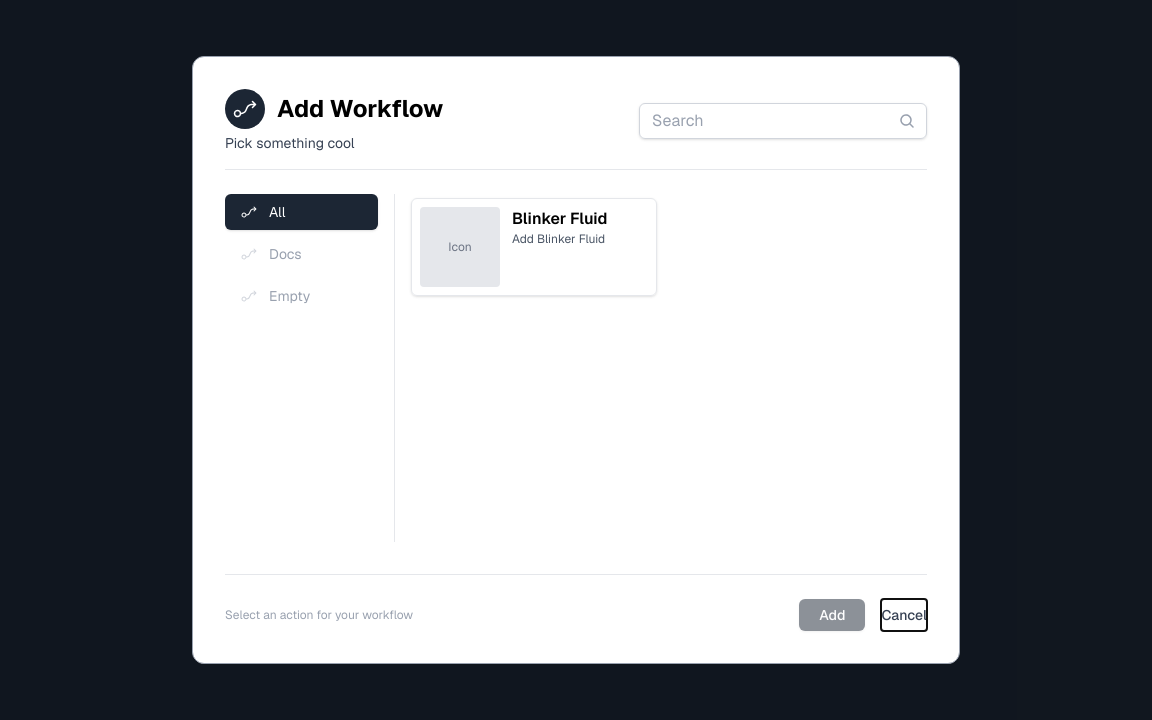
it: CatalogDialog › search filters items by name / description / tag
The image size is (1152, 720).
Type "fluid" into the field with placeholder "Search" at (783, 121), box 639,103 -> 927,139
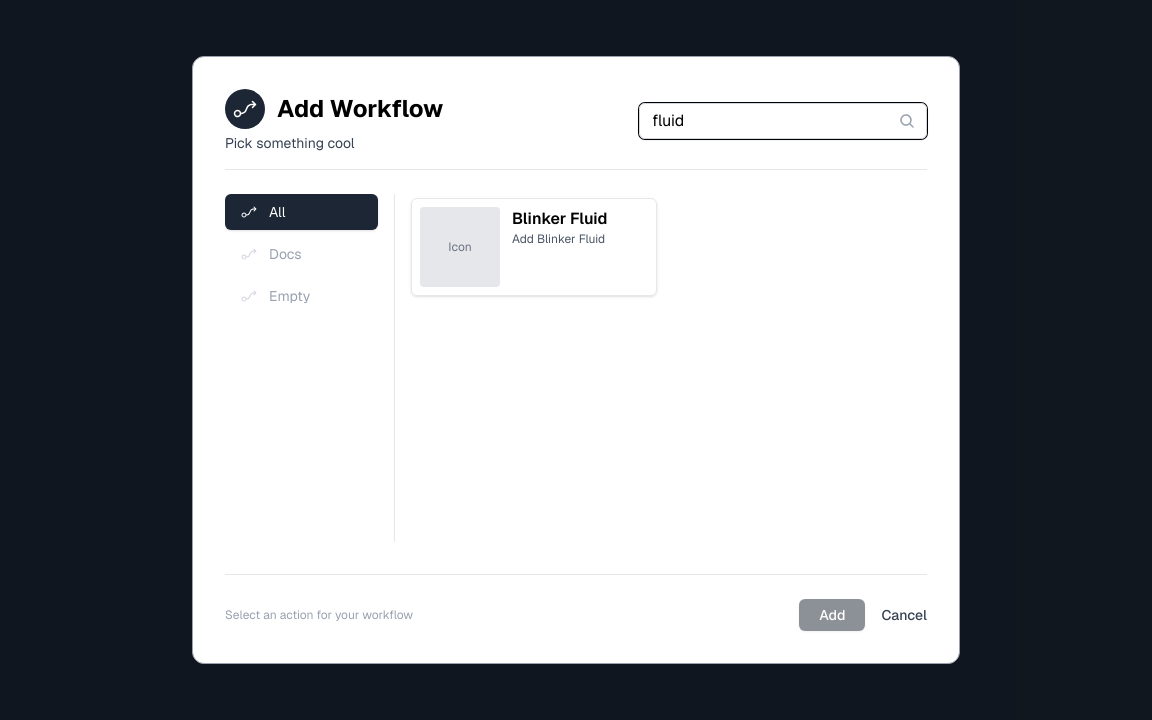
Expected: the button "Icon Blinker Fluid Add Blinker Fluid" is shown, 411,198 -> 657,296
Replace the text in the field with placeholder "Search" with "nonsense" at (783, 121), box 639,103 -> 927,139
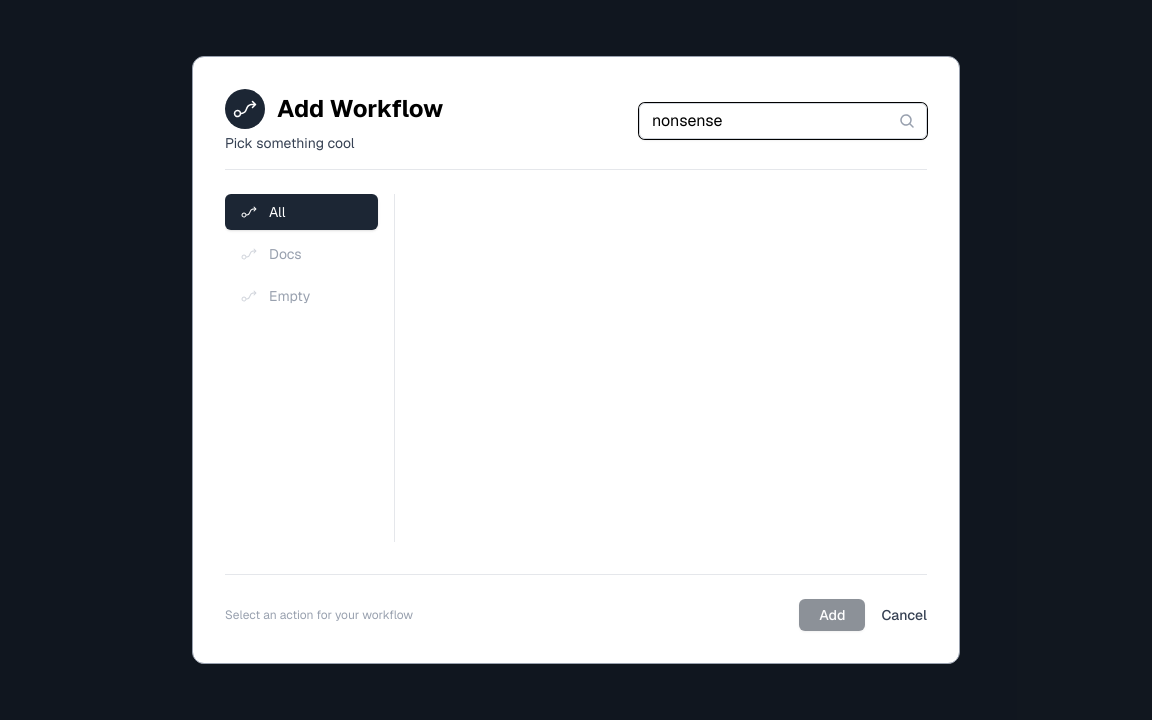
Expected: the button "Blinker Fluid" is gone
